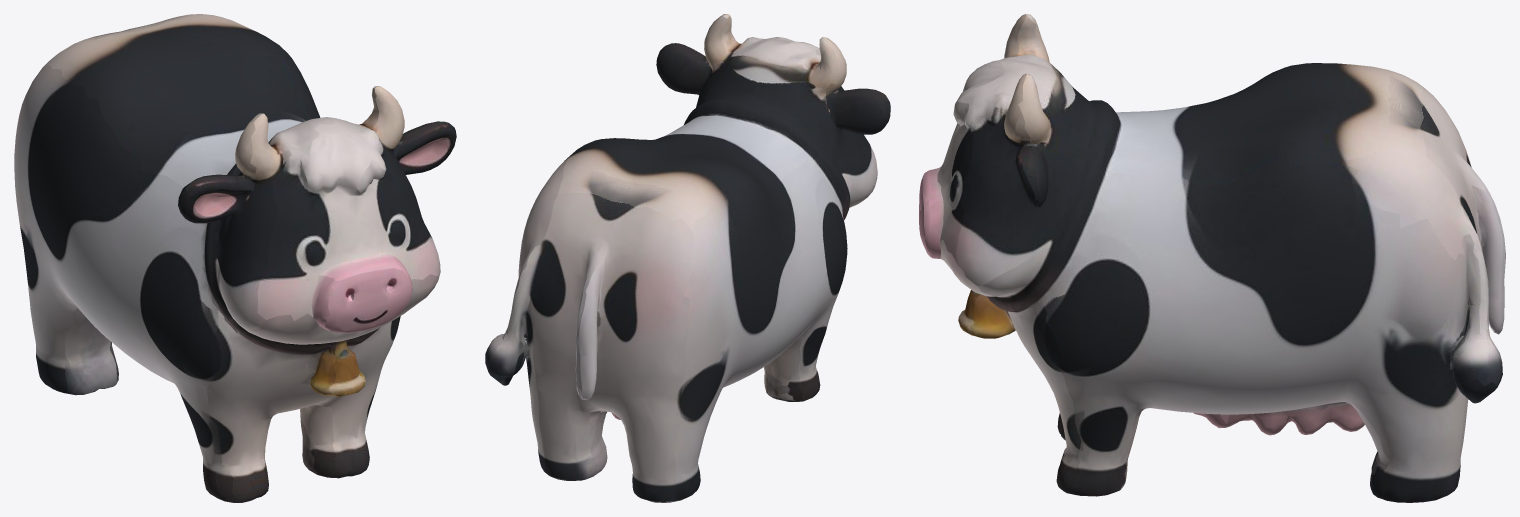
File: cow.glb
3 views of the same model, side by side, from view 1: azimuth 30°, elevation 25°; view 2: azimuth 150°, elevation 25°; view 3: azimuth 270°, elevation 25° (orthographic). The views are drawn at different scales.
Visible parts, largest first — view 1: cow; view 2: cow; view 3: cow.
Boxes of the visible parts, <box> form: cow: <box>14,14,456,502</box>; cow: <box>485,14,890,502</box>; cow: <box>919,14,1505,502</box>.
Size of the model in its own units: 0.5657 by 0.7848 by 1.
1 material, 1 textured.
